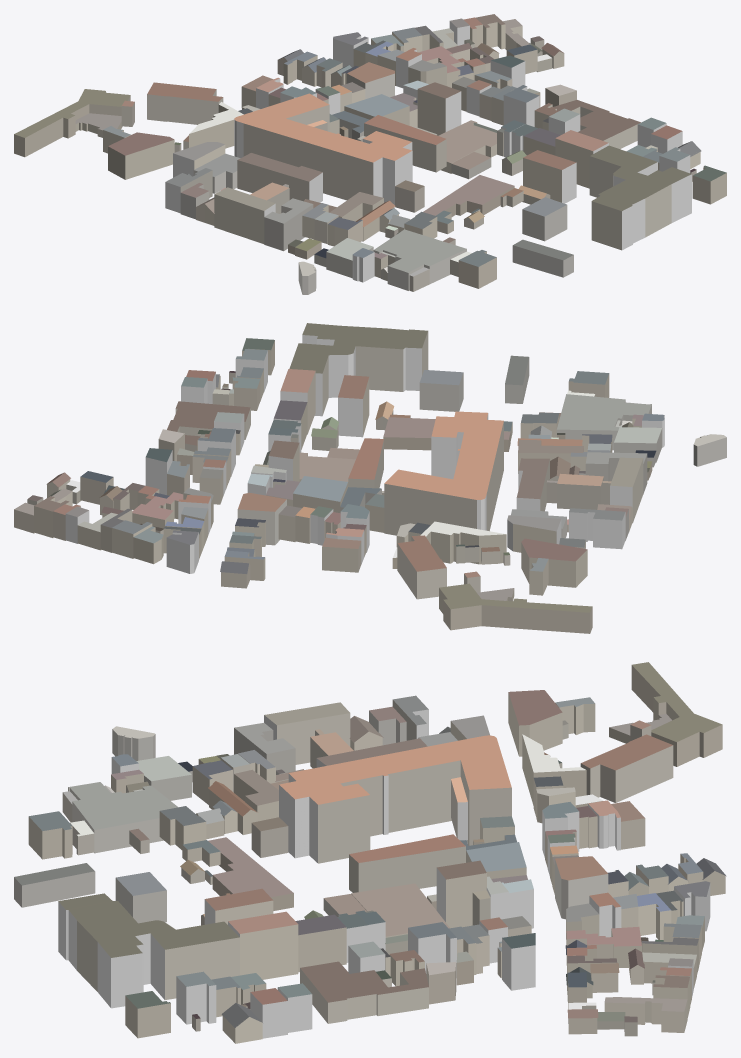
3 renders of one model, top to bottom at view 1: azimuth 30°, elevation 25°; view 2: azimuth 150°, elevation 25°; view 3: azimuth 270°, elevation 25°, orthographic. The views are drawn at different scales.
Visible parts, largest first — view 1: tuile; view 2: tuile; view 3: tuile.
Part boxes in pixels (x1=…): tuile: x1=14, y1=14, x2=726, y2=294; tuile: x1=14, y1=323, x2=726, y2=633; tuile: x1=14, y1=662, x2=726, y2=1043.
Bounding box in the file's own units: 294 × 33.2 × 268.
